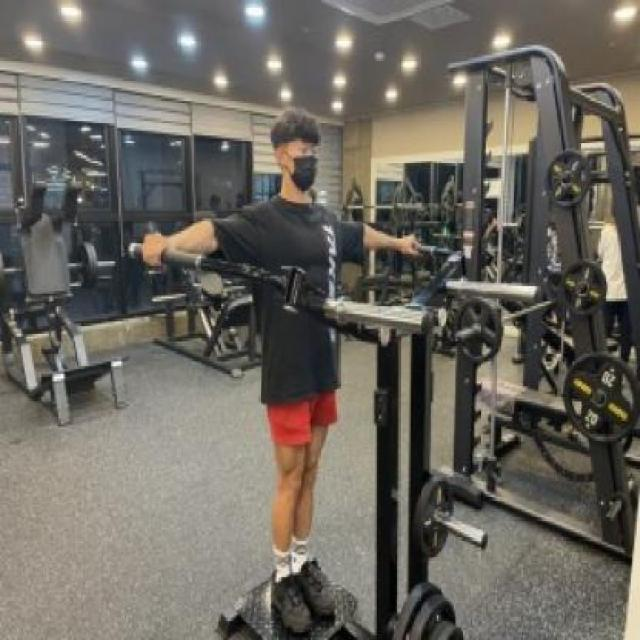lateral raises machine: (126, 235, 486, 640)
smith machine: (449, 43, 640, 555)
